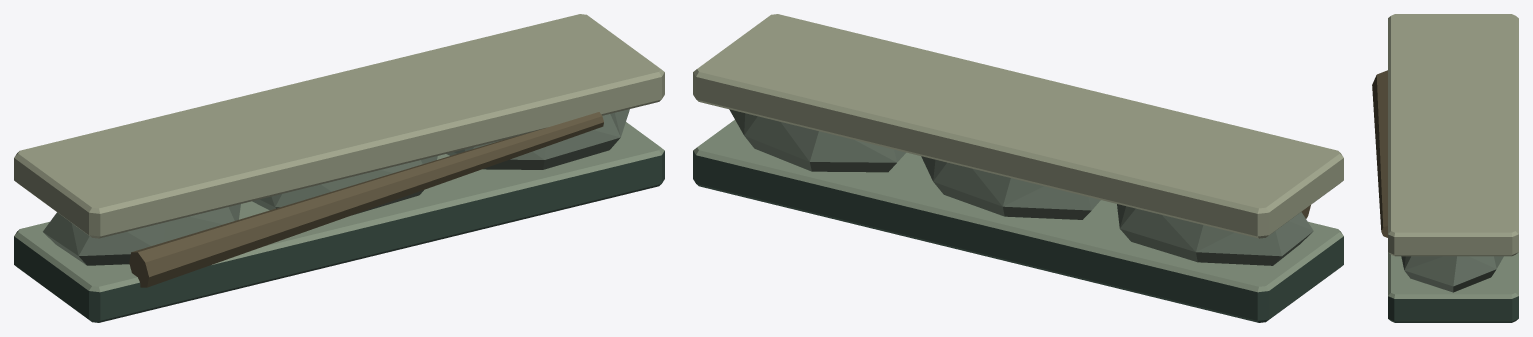
Rendered from wall-low.glb.
3 views of the same model, side by side, from view 1: azimuth 30°, elevation 25°; view 2: azimuth 150°, elevation 25°; view 3: azimuth 270°, elevation 25° (orthographic). The views are drawn at different scales.
Parts seen in each view (by area): view 1: wall-low__body; view 2: wall-low__body; view 3: wall-low__body.
Part boxes in pixels (box(x1,y1,x2,y2)): wall-low__body: box(14, 14, 664, 322); wall-low__body: box(693, 14, 1343, 322); wall-low__body: box(1372, 14, 1518, 322).
Size of the model in its own units: 2.01 by 0.38 by 0.56.
